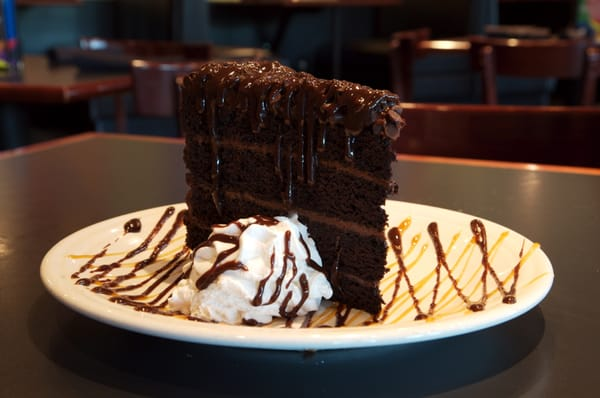curry: (1, 128, 579, 396)
pasta: (472, 33, 588, 106)
sushi: (177, 57, 408, 320), (178, 213, 330, 325)
